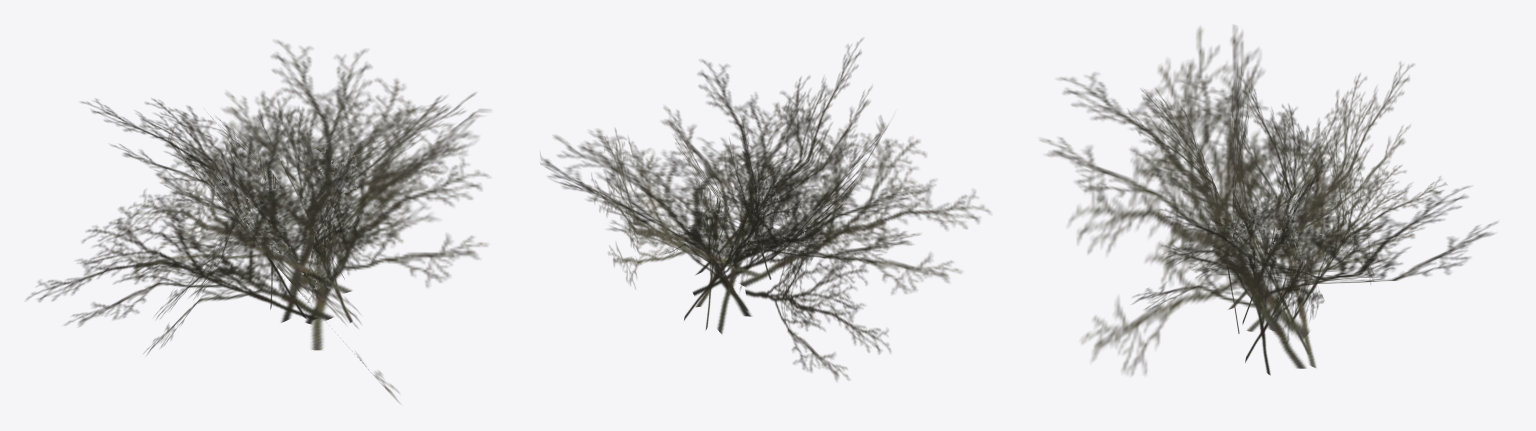
The model's file is wshrub_a.glb.
3 renders of one model, left to right at view 1: azimuth 30°, elevation 25°; view 2: azimuth 150°, elevation 25°; view 3: azimuth 270°, elevation 25°, orthographic. The views are drawn at different scales.
Parts seen in each view (by area): view 1: Winter_Trees_Branches; view 2: Winter_Trees_Branches; view 3: Winter_Trees_Branches.
Boxes of the visible parts, x1,y1,x2,y2 form: Winter_Trees_Branches: (26,40,489,402); Winter_Trees_Branches: (540,38,990,380); Winter_Trees_Branches: (1040,25,1497,375).
Size of the model in its own units: 6.69 by 5.09 by 6.22.
Materials: 1 (1 with a texture image).
